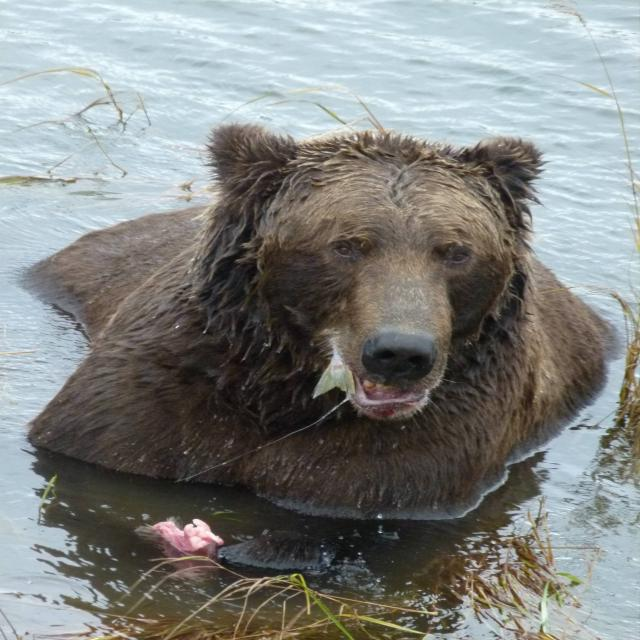bear face: (36, 126, 617, 518)
